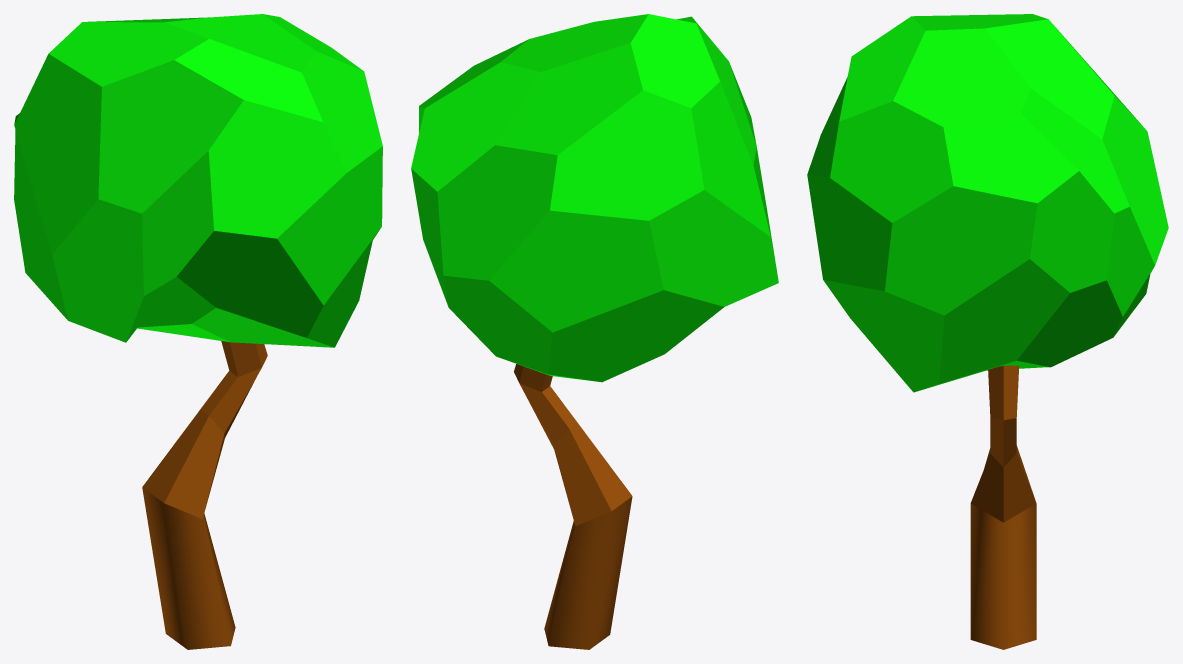
File: tree2.obj
3 views of the same model, side by side, from view 1: azimuth 30°, elevation 25°; view 2: azimuth 150°, elevation 25°; view 3: azimuth 270°, elevation 25° (orthographic). The views are drawn at different scales.
Parts seen in each view (by area): view 1: Hedra001, Cylinder002; view 2: Hedra001, Cylinder002; view 3: Hedra001, Cylinder002.
Boxes of the visible parts, x1,y1,x2,y2 form: Hedra001: (14,14,382,347); Cylinder002: (142,341,267,649); Hedra001: (411,14,778,382); Cylinder002: (514,364,632,649); Hedra001: (807,14,1168,392); Cylinder002: (970,365,1036,649).
Size of the model in its own units: 65.79 by 121 by 67.59.
